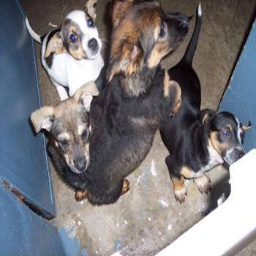dog: (31, 5, 250, 216)
